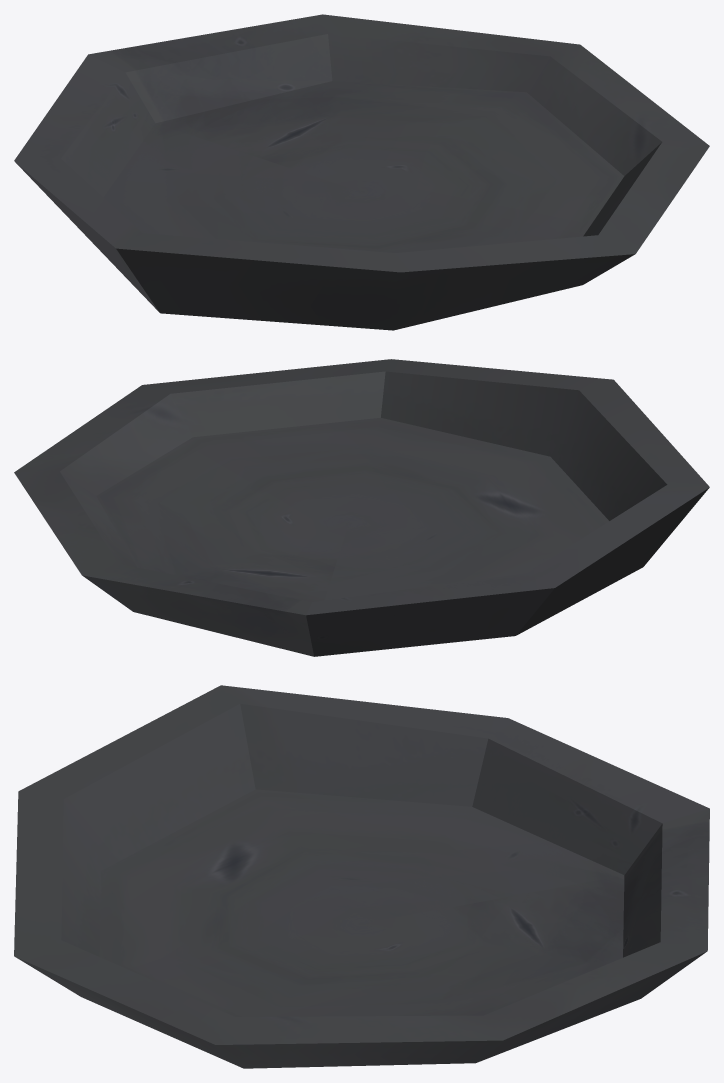
Rendered from SM_PROP_plate_metal_01.fbx.
3 views of the same model, one above another, from view 1: azimuth 30°, elevation 25°; view 2: azimuth 150°, elevation 25°; view 3: azimuth 270°, elevation 25° (orthographic). The views are drawn at different scales.
Visible parts, largest first — view 1: SM_PROP_plate_metal_01; view 2: SM_PROP_plate_metal_01; view 3: SM_PROP_plate_metal_01.
Boxes of the visible parts, x1,y1,x2,y2 form: SM_PROP_plate_metal_01: [14, 14, 709, 330]; SM_PROP_plate_metal_01: [14, 359, 709, 656]; SM_PROP_plate_metal_01: [14, 685, 709, 1068].
Size of the model in its own units: 67.48 by 9.62 by 62.65.
